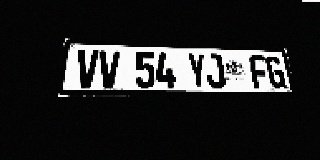4: (155, 52, 176, 88)
5: (136, 52, 156, 88)
F: (249, 55, 270, 88)
G: (265, 56, 287, 88)
J: (205, 54, 226, 88)
V: (75, 50, 99, 88), (98, 50, 120, 88)
Y: (187, 53, 208, 88)
